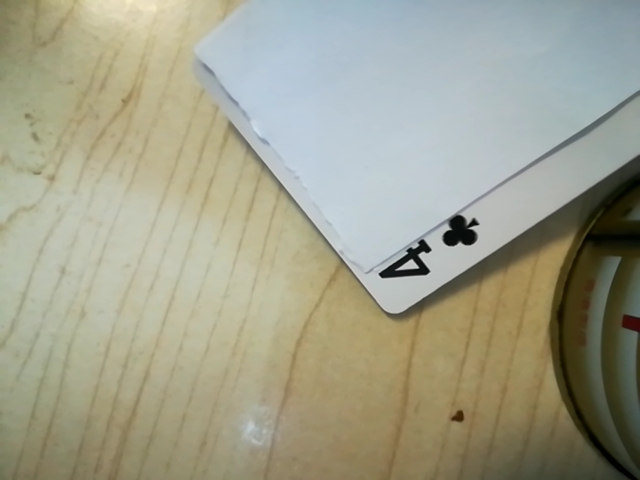mh 4: (367, 204, 494, 296)
